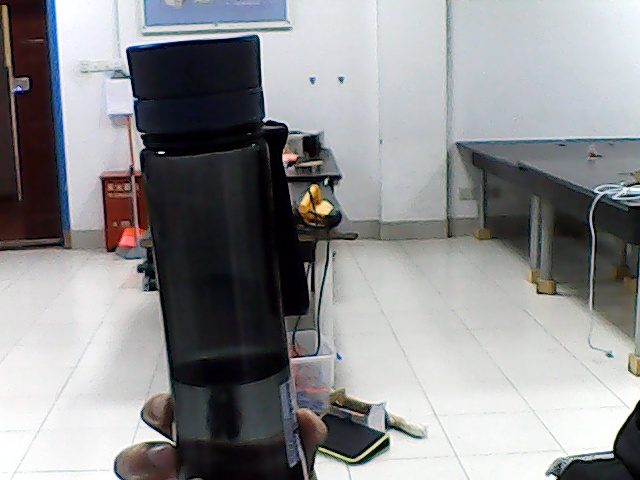cup: (163, 48, 267, 438)
